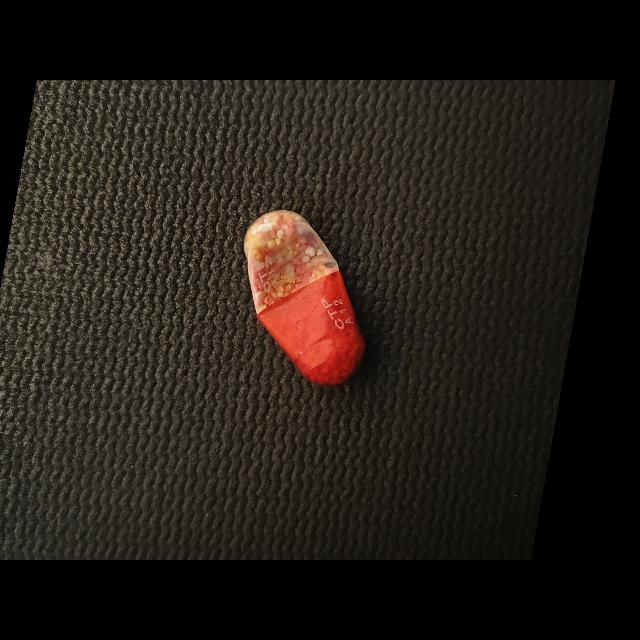Defective Capsule: (243, 210, 365, 385)
